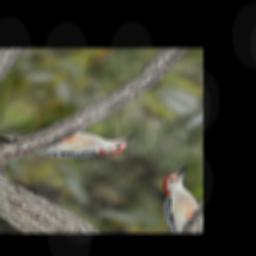Woodpecker: (0, 84, 141, 190)
